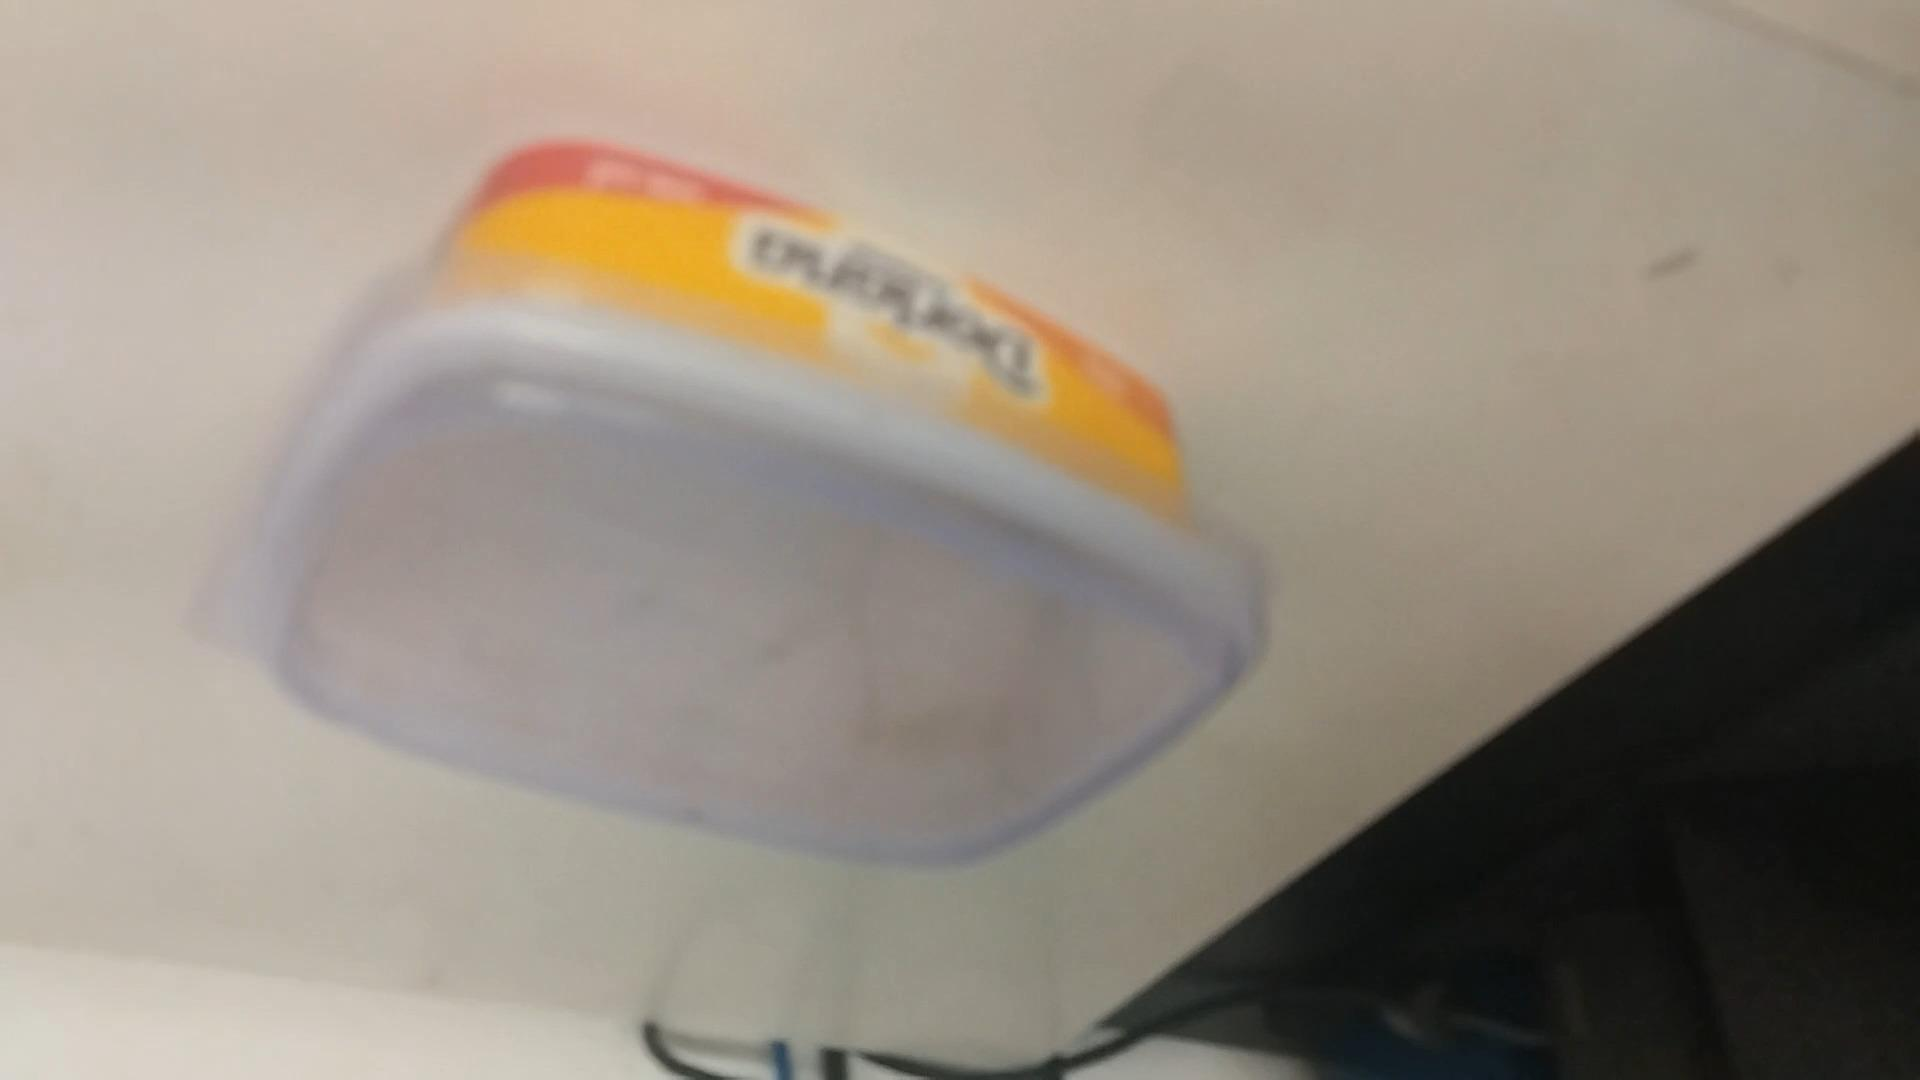butter: (190, 149, 1266, 878)
